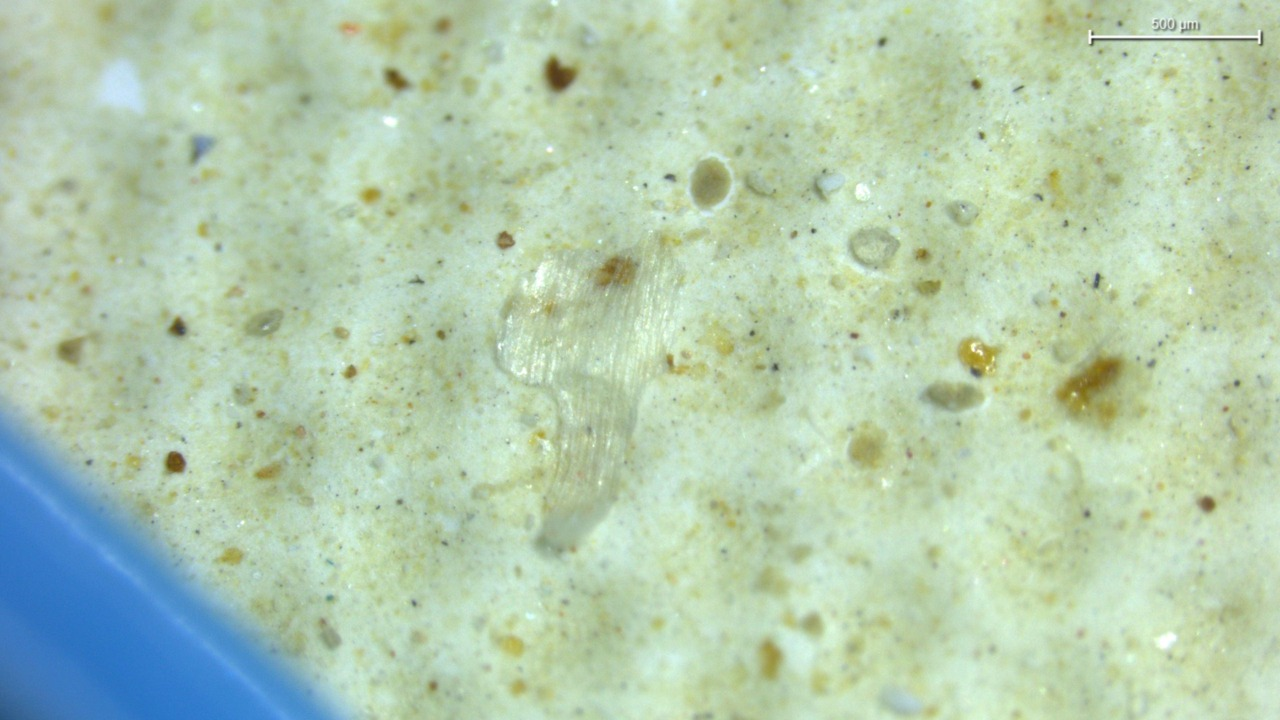microplastic_fragment: (497, 234, 681, 550), (850, 227, 900, 268)
